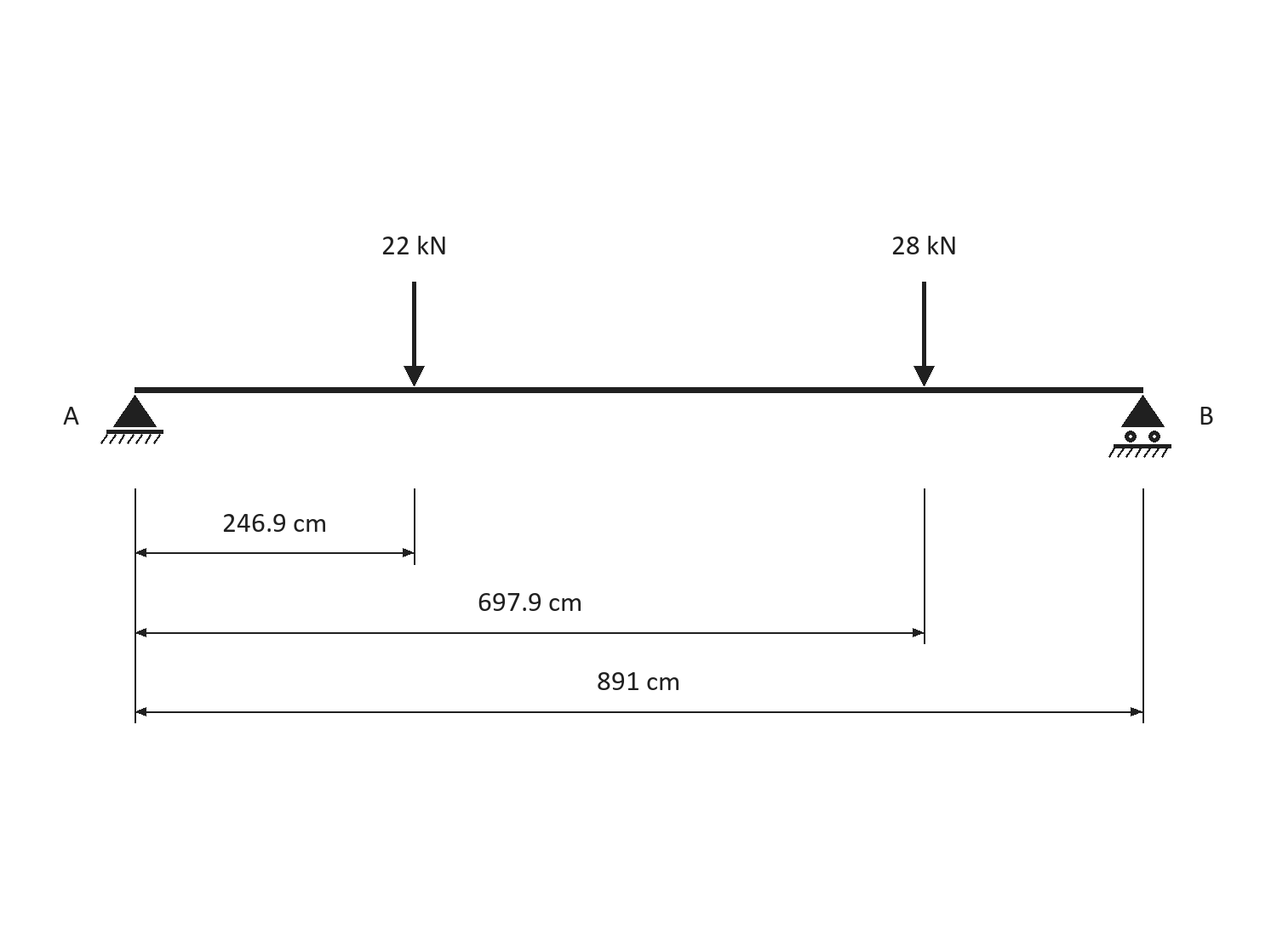pin_support: (100, 395, 163, 444)
point_load: (913, 282, 935, 386), (404, 282, 425, 386)
roller_support: (1108, 395, 1171, 458)
